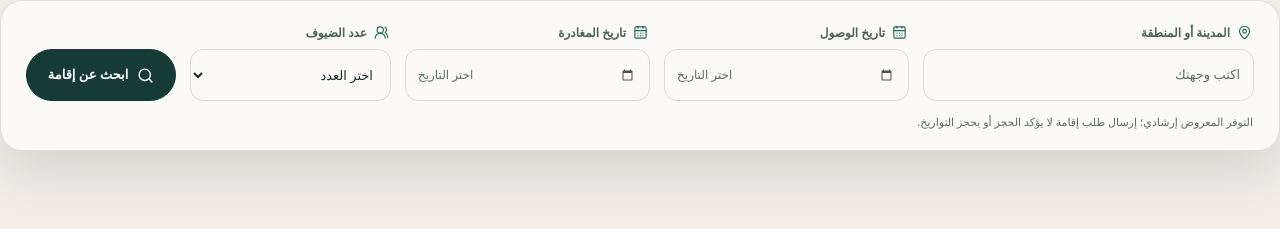
Test: StaySearchForm › rejects a departure date that is not after arrival
Type "القاهرة" into the field labelled "المدينة أو المنطقة" at (1089, 75), box [923,49,1254,101]
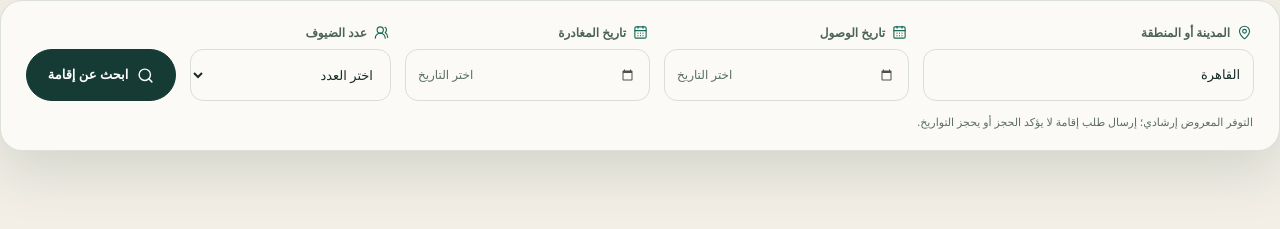
Type "2026-10-10" into the date field labelled "تاريخ الوصول" at (787, 75), box [664,49,909,101]
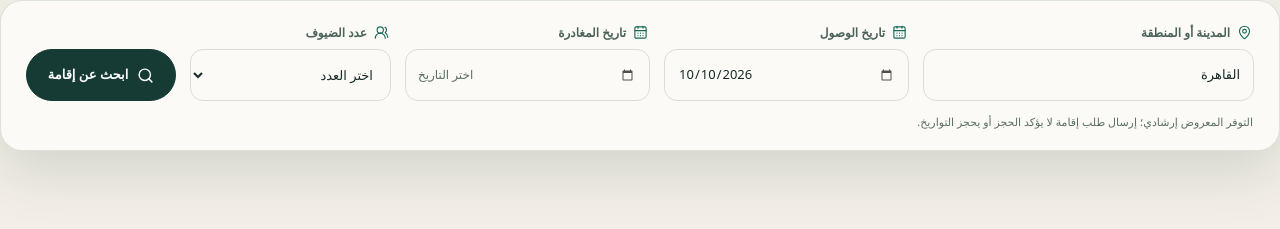
Type "2026-10-10" into the date field labelled "تاريخ المغادرة" at (528, 75), box [405,49,650,101]
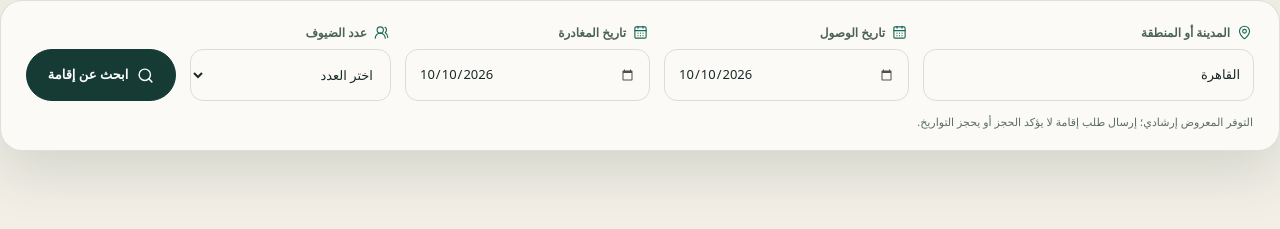
Select "٢ ضيوف" in the dropdown labelled "عدد الضيوف" at (290, 75), box [190,49,391,101]
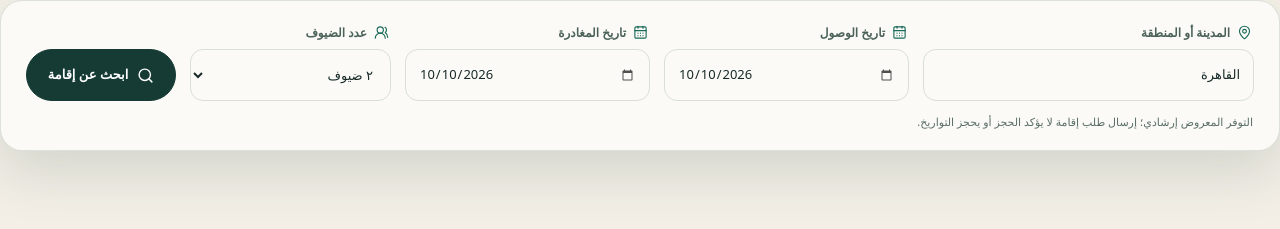
Submit the form labelled "المدينة أو المنطقة"
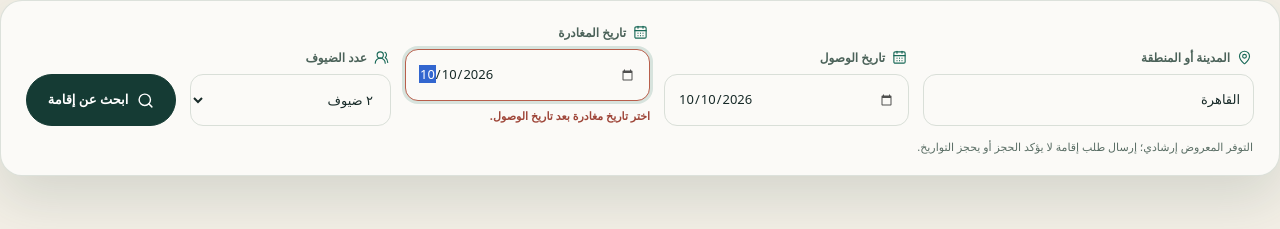
Expected: the message reads "اختر تاريخ مغادرة بعد تاريخ الوصول.", [490,108,650,123]
